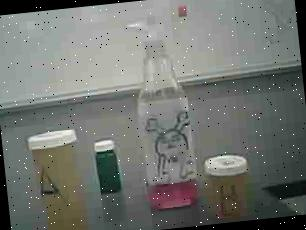Bottle A: (23, 121, 93, 230)
Bottle B: (204, 150, 254, 222)
Bottle C: (93, 138, 124, 200)
hazard: (119, 0, 208, 212)
